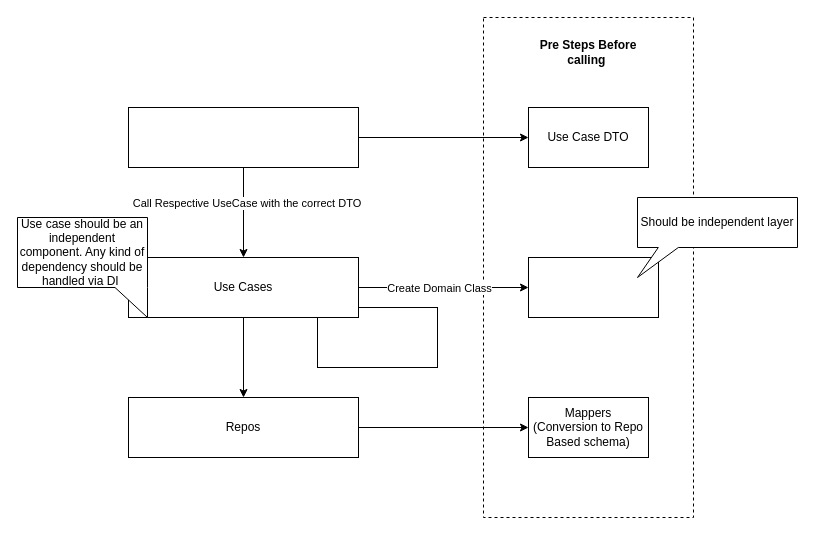
Image size: 815x535. Some labels were removed from this diagram. Here are the shapes that lost their labels. From the top down, the centre of each, then its label:
the point at 243,137: Resolver / HTTP Controller
the point at 593,287: Domain (Holds Business Logic)
the point at 377,337: DTO specific to usecases
